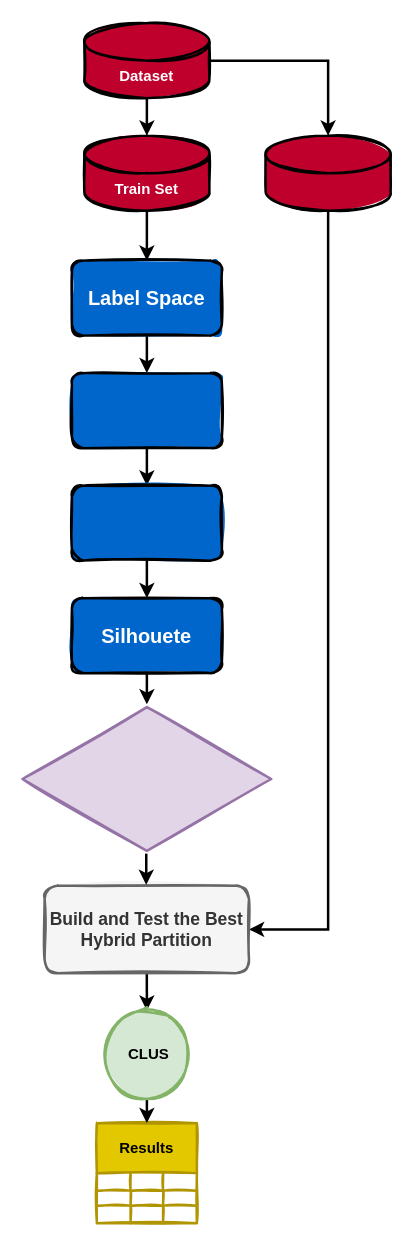
This 414x1245 diagram has some shape labels left out. Here are the shapes that lost their labels. From the top down, the centre of each, then its label:
At [327,172]: "Test Set".
At [146,410]: "Jaccard Index".
At [146,522]: "HClust".
At [146,778]: "Best Hybrid Partition".
